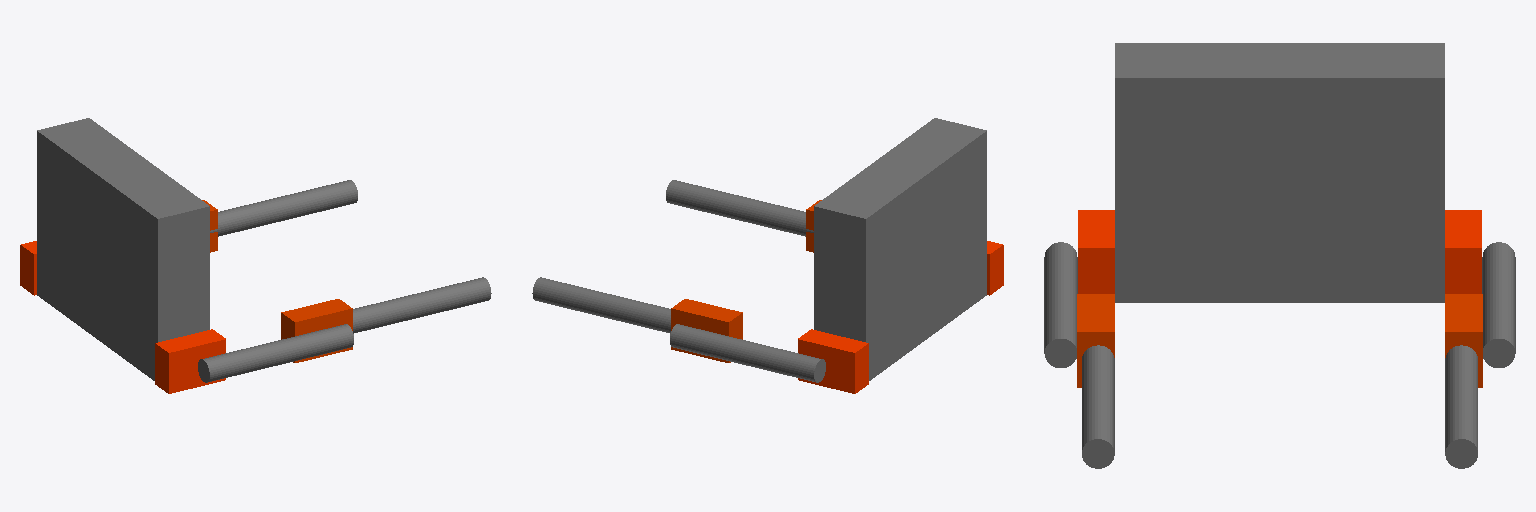
The robot description file, URDF, robot "flip_5link":
<robot name = "flip_5link">
  <material name = "link-color">
	<color rgba = "0.5 0.5 0.5 1" />
  </material>
  <material name = "Hebi-X-color">
    <color rgba = "1 0.27 0 1" />
  </material>
  <material name = "Hebi-X-color2">
    <color rgba = "0.9 0.3 0 1" />
  </material>

	<link name="world_link">
	  </link>

	<link name="x_link">
		<inertial>
			<origin xyz="0 0 0" rpy="0 0 0" />
			<mass value="1e-16" />
			<inertia ixx="1e-16" ixy="0" ixz="0" iyy="1e-16" iyz="0" izz="1e-16" />
		</inertial>
	</link>

	<link name="z_link">
		<inertial>
			<origin xyz="0 0 0" rpy="0 0 0" />
			<mass value="1e-16" />
			<inertia ixx="1e-16" ixy="0" ixz="0" iyy="1e-16" iyz="0" izz="1e-16" />
		</inertial>
	</link>

	<link name = "base">
		<inertial>
			<origin xyz = "0 0 0" />
			<mass value = "1.46" />
			<inertia ixx = "0.0" iyy = "0.0029" izz = "0.0"
ixy = "0" ixz = "0" iyz = "0" />
		</inertial>
		<visual>
			<origin xyz = "0 0 0" />
			<geometry>
			  <box size = "0.1 0.4 0.3" />
			</geometry>
            <material name = "link-color"/>
		</visual>
        <!-- Left hip motor -->
        <visual>
          <origin xyz = "0 0.2225 -0.1125" />
          <geometry>
            <box size = "0.11 0.045 0.075" />
          </geometry>
          <material name = "Hebi-X-color"/>
        </visual>
        <!-- Right hip motor -->
        <visual>
          <origin xyz = "0 -0.2225 -0.1125" />
          <geometry>
            <box size = "0.11 0.045 0.075" />
          </geometry>
          <material name = "Hebi-X-color"/>
        </visual>
	</link>

	<link name = "left_thigh">
		<inertial>
			<origin xyz = "0.2176 0 0" />
			<mass value = "0.8112" />
			<inertia ixx = "0.0" iyy = "0.00709" izz = "0.0"
	ixy = "0" ixz = "0" iyz = "0" />
		</inertial>
		<visual>
		  <!-- <origin rpy="0 1.57075 0" xyz = "0.138  0.265 -0.1125" /> -->
          <origin rpy = "0 1.57075 0" xyz = "0.138 0 0"/>
			<geometry>
			  <cylinder radius = "0.02" length = "0.2755"  />
			</geometry>
			<material name = "link-color"/>
		</visual>
        <!-- Left knee motor -->
        <visual>
          <!-- <origin rpy = "-1.57075 0 0" xyz = "0.2755 -0.0225 0" /> -->
          <origin xyz = "0.2405 0 -0.04225"/>
          <geometry>
            <box size = "0.11 0.075 0.045" />
          </geometry>
          <material name = "Hebi-X-color2"/>
        </visual>
	</link>

	<joint name="virtual_x" type="prismatic">
    <parent link="world_link" />
    <child link="x_link" />
    <origin xyz="0 0 0" />
    <axis xyz="1 0 0" />
		<limit velocity="1e16" effort="1e16"/>
    <dynamics damping="0.0" friction="0.0"/>
  </joint>

	<joint name="virtual_z" type="prismatic">
    <parent link="x_link" />
    <child link="z_link" />
    <origin xyz="0 0 0" />
    <axis xyz="0 0 1" />
		<limit velocity="1e16" effort="1e16"/>
    <dynamics damping="0.0" friction="0.0"/>
  </joint>

	<joint name="virtual_rot" type="revolute">
    <parent link="z_link" />
    <child link="base" />
    <origin xyz="0 0 0" />
    <axis xyz="0 1 0" />
		<limit velocity="1e16" effort="1e16"/>
    <dynamics damping="0.0" friction="0.0"/>
  </joint>

	<joint name = "left_hip" type = "revolute">
		<parent link = "base" />
		<child link = "left_thigh" />
	    <origin rpy = "-1.57075 0  0" xyz = "0. 0.265 -0.1125" />
		<axis xyz = "0 0 1" />
        <limit lower="0.0" upper="0.548" velocity="0.5" effort="30.0"/>
	</joint>

	<link name = "left_shank">
		<inertial>
			<origin xyz = "0.1445 0 0" />
			<mass value = "0.3037" />
			<inertia ixx = "0.0" iyy = "0.00398" izz = "0.0"
	ixy = "0" ixz = "0" iyz = "0" />
		</inertial>
		<visual>
          <origin rpy = "0 1.57075 0" xyz = "0.144 0 0"/>
			<geometry>
			  <cylinder radius = "0.02" length = "0.288"/> <!-- total 0.308 (cylinder + phere) -->
			</geometry>
			<material name = "link-color"/>
		</visual>
        <visual>
          <origin rpy = "0 0 0" xyz = "0.288 0 0"/>
			<geometry>
			  <GeometryTypes.Sphere radius = "0.02"/>
			</geometry>
            <!-- <material name = "link-color"/> -->
            <material name = "Hebi-X-color"/>
        </visual>
	</link>

	<joint name = "left_knee" type = "revolute">
		<parent link = "left_thigh" />
		<child link = "left_shank" />
	    <origin rpy = "3.141592 0 0" xyz = "0.2755 0 -0.045" />
		<axis xyz = "0 0 -1" />
        <limit lower="0.0" upper="0.548" velocity="0.5" effort="30.0"/>
	</joint>

    <!-- right leg -->
	<link name = "right_thigh">
		<inertial>
			<origin xyz = "0.2176 0 0" />
			<mass value = "0.8112" />
			<inertia ixx = "0.0" iyy = "0.00709" izz = "0.0"
	ixy = "0" ixz = "0" iyz = "0" />
		</inertial>
		<visual>
          <origin rpy = "0 1.57075 0" xyz = "0.138 0 0"/>
			<geometry>
			  <cylinder radius = "0.02" length = "0.2755"  />
			</geometry>
			<material name = "link-color"/>
		</visual>
        <!-- right knee motor -->
        <visual>
          <origin xyz = "0.2405 0 -0.04225"/>
          <geometry>
            <box size = "0.11 0.075 0.045" />
          </geometry>
          <material name = "Hebi-X-color2"/>
        </visual>
	</link>

	<joint name = "right_hip" type = "revolute">
		<parent link = "base" />
		<child link = "right_thigh" />
	    <origin rpy = "1.57075 0  0" xyz = "0. -0.265 -0.1125" />
		<axis xyz = "0 0 -1" />
        <limit lower="0.0" upper="0.548" velocity="0.5" effort="30.0"/>
	</joint>

	<link name = "right_shank">
		<inertial>
			<origin xyz = "0.1445 0 0" />
			<mass value = "0.3037" />
			<inertia ixx = "0.0" iyy = "0.00398" izz = "0.0"
	ixy = "0" ixz = "0" iyz = "0" />
		</inertial>
		<visual>
          <origin rpy = "0 1.57075 0" xyz = "0.144 0 0"/>
			<geometry>
			  <cylinder radius = "0.02" length = "0.288"/> <!-- total 0.308 (cylinder + phere) -->
			</geometry>
			<material name = "link-color"/>
		</visual>
        <visual>
          <origin rpy = "0 0 0" xyz = "0.288 0 0"/>
			<geometry>
			  <GeometryTypes.Sphere radius = "0.02"/>
			</geometry>
            <!-- <material name = "link-color"/> -->
            <material name = "Hebi-X-color"/>
        </visual>
	</link>

	<joint name = "right_knee" type = "revolute">
		<parent link = "right_thigh" />
		<child link = "right_shank" />
	    <origin rpy = "3.141592 0 0" xyz = "0.2755 0 -0.045" />
		<axis xyz = "0 0 1" />
        <limit lower="0.0" upper="0.548" velocity="0.5" effort="30.0"/>
	</joint>
</robot>

--- Render facts (derived) ---
Views: 3 orthographic renders of the robot side by side, from view 1: azimuth 30°, elevation 25°; view 2: azimuth 150°, elevation 25°; view 3: azimuth 270°, elevation 25°.
Model flip_5link with 8 links and 7 joints (5 revolute, 2 prismatic), rooted at world_link, posed every joint at zero.
Visible links, largest first — view 1: base, right_thigh, left_shank, right_shank; view 2: base, left_thigh, right_shank, left_shank; view 3: base, left_thigh, right_thigh, left_shank, right_shank.
Link boxes in pixels (<box>): base: <box>20,118,225,393</box>; right_thigh: <box>198,299,353,382</box>; left_shank: <box>210,180,357,236</box>; right_shank: <box>353,277,491,333</box>; base: <box>798,118,1003,393</box>; left_thigh: <box>670,299,825,382</box>; right_shank: <box>666,180,813,236</box>; left_shank: <box>532,277,670,333</box>; base: <box>1078,43,1481,302</box>; left_thigh: <box>1445,242,1515,387</box>; right_thigh: <box>1044,242,1114,387</box>; left_shank: <box>1445,345,1477,468</box>; right_shank: <box>1082,345,1114,468</box>.
Size in the robot's own frame: 0.6185 by 0.57 by 0.3 metres.
Geometry: primitives only (box / cylinder / sphere), no mesh files.